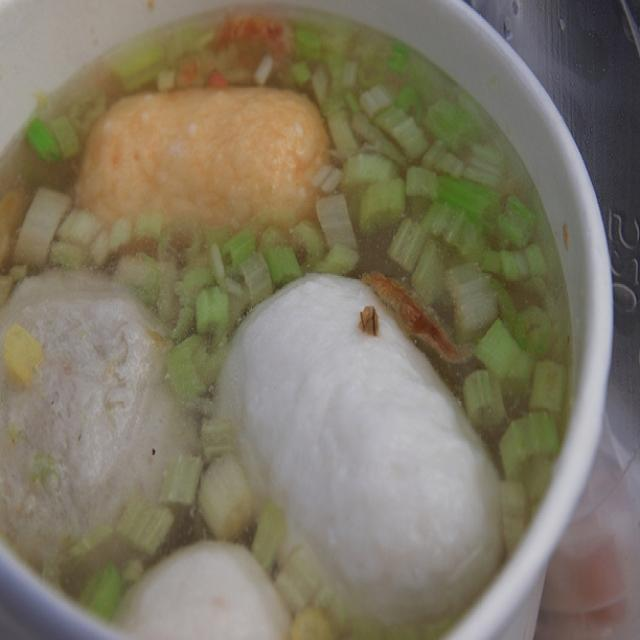熟制海鲜: (9, 27, 595, 630)
